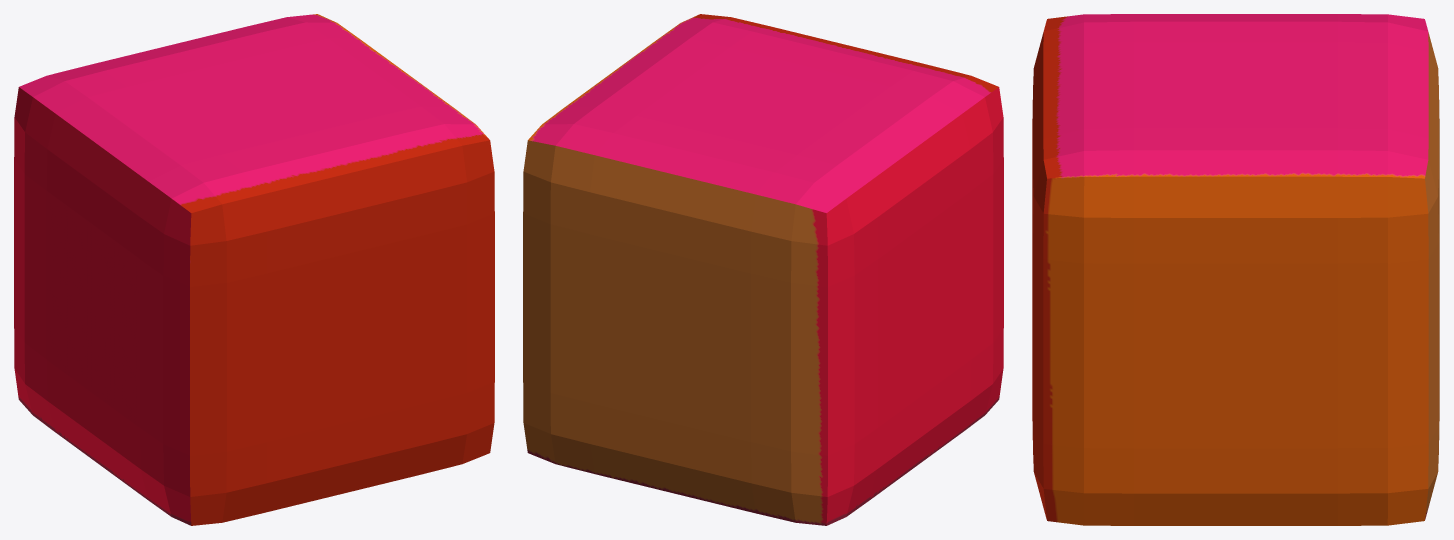
3 renders of one model, left to right at view 1: azimuth 30°, elevation 25°; view 2: azimuth 150°, elevation 25°; view 3: azimuth 270°, elevation 25°, orthographic. The views are drawn at different scales.
Visible parts, largest first — view 1: Cube_visual_Cube_mesh; view 2: Cube_visual_Cube_mesh; view 3: Cube_visual_Cube_mesh.
Boxes of the visible parts, bbox=[...] form: Cube_visual_Cube_mesh: bbox=[14, 14, 494, 525]; Cube_visual_Cube_mesh: bbox=[523, 14, 1003, 525]; Cube_visual_Cube_mesh: bbox=[1032, 14, 1439, 525].
Bounding box in the file's own units: 0.08 × 0.08 × 0.08.
Materials: 1 (1 with a texture image).
